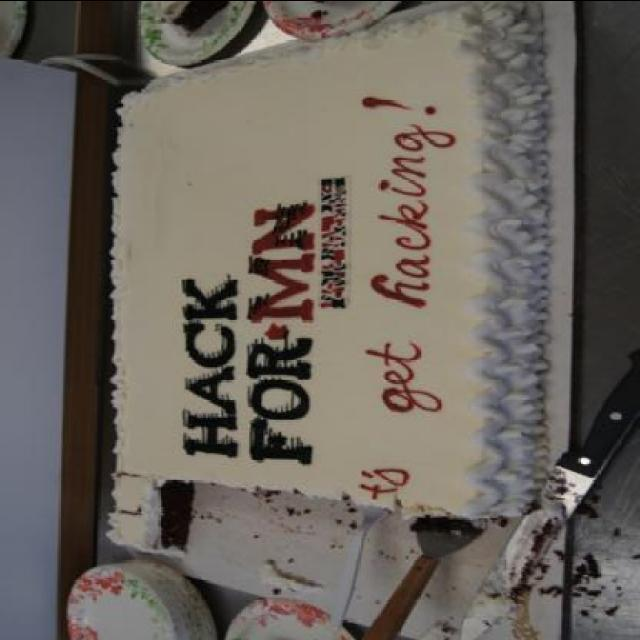Cake: (104, 0, 547, 558)
